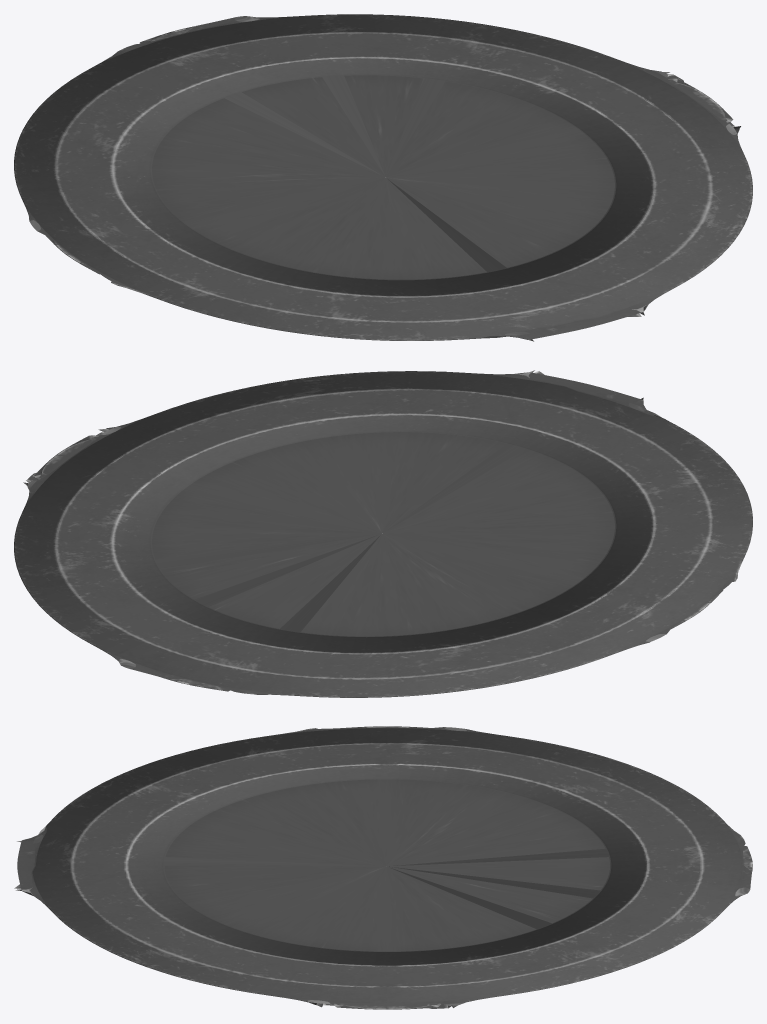
File: rampanave.obj
3 renders of one model, top to bottom at view 1: azimuth 30°, elevation 25°; view 2: azimuth 150°, elevation 25°; view 3: azimuth 270°, elevation 25°, orthographic. The views are drawn at different scales.
Parts seen in each view (by area): view 1: basehlgmcolor; view 2: basehlgmcolor; view 3: basehlgmcolor.
Boxes of the visible parts, <box> form: basehlgmcolor: <box>14,14,752,341</box>; basehlgmcolor: <box>14,370,752,697</box>; basehlgmcolor: <box>14,726,752,1009</box>.
Bounding box in the file's own units: 24207 × 48.56 × 26679.
1 material, 1 textured.
